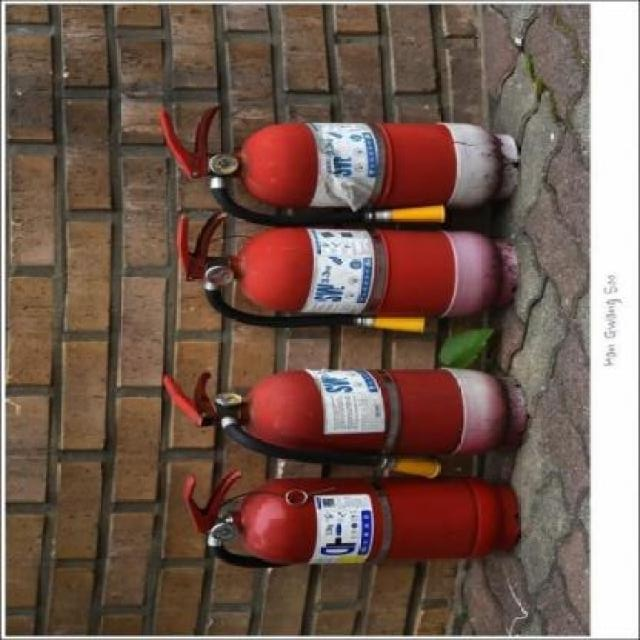fire extinguisher: (158, 105, 518, 227), (177, 211, 520, 334), (163, 366, 525, 479), (183, 468, 520, 568)
